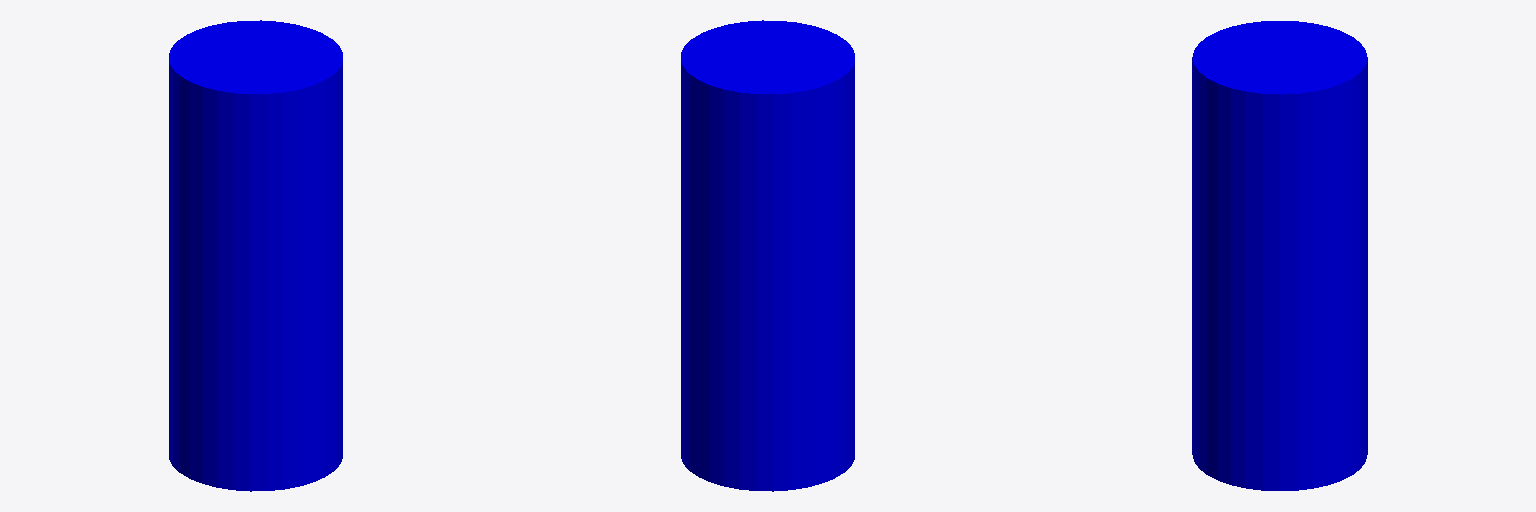
robot.urdf — my_auv:
<?xml version="1.0" ?>
<!-- =================================================================================== -->
<!-- |    This document was autogenerated by xacro from my_auv.urdf.xacro              | -->
<!-- |    EDITING THIS FILE BY HAND IS NOT RECOMMENDED                                 | -->
<!-- =================================================================================== -->
<robot name="my_auv">
  <!-- Base Link -->
  <link name="base_link">
    <inertial>
      <mass value="50"/>
      <origin xyz="0 0 0"/>
      <inertia ixx="3" iyy="3" izz="3"/>
    </inertial>
    <visual>
      <geometry>
        <cylinder length="1.0" radius="0.2"/>
      </geometry>
      <material name="Blue">
        <color rgba="0 0 1 1"/>
      </material>
    </visual>
    <collision>
      <geometry>
        <cylinder length="1.0" radius="0.2"/>
      </geometry>
    </collision>
  </link>
  <!-- IMU -->
  <link name="imu_link"/>
  <joint name="imu_joint" type="fixed">
    <parent link="base_link"/>
    <child link="imu_link"/>
    <origin xyz="0 0 0"/>
  </joint>
  <gazebo>
    <sensor name="imu_sensor" type="imu">
      <always_on>true</always_on>
      <update_rate>50</update_rate>
      <plugin filename="libgazebo_ros_imu_sensor.so" name="imu_plugin">
        <topicName>/my_auv/imu</topicName>
        <frameName>imu_link</frameName>
      </plugin>
    </sensor>
  </gazebo>
  <!-- Camera -->
  <link name="camera_link"/>
  <joint name="camera_joint" type="fixed">
    <parent link="base_link"/>
    <child link="camera_link"/>
    <origin xyz="0.5 0 0"/>
  </joint>
  <gazebo reference="camera_link">
    <sensor name="front_camera" type="camera">
      <update_rate>30</update_rate>
      <camera>
        <horizontal_fov>1.0</horizontal_fov>
        <image>
          <width>640</width>
          <height>480</height>
          <format>R8G8B8</format>
        </image>
      </camera>
      <plugin filename="libgazebo_ros_camera.so" name="camera_plugin">
        <cameraName>front_camera</cameraName>
        <imageTopicName>/my_auv/camera/image_raw</imageTopicName>
        <cameraInfoTopicName>/my_auv/camera/camera_info</cameraInfoTopicName>
        <frameName>camera_link</frameName>
      </plugin>
    </sensor>
  </gazebo>
</robot>

--- Render facts (derived) ---
3 views of the same robot in one strip: view 1: azimuth 30°, elevation 25°; view 2: azimuth 150°, elevation 25°; view 3: azimuth 270°, elevation 25° (orthographic).
Robot: my_auv — 3 links, 2 joints (2 fixed); root link base_link; default pose: all joints at 0.
Links seen in each view (by area): view 1: base_link; view 2: base_link; view 3: base_link.
Boxes of the visible links, x1,y1,x2,y2 form: base_link: (169, 20, 342, 491); base_link: (681, 20, 854, 491); base_link: (1192, 21, 1367, 490).
Bounding box of the posed robot: 0.4 × 0.4 × 1 m (x, y, z).
Geometry: primitives only (box / cylinder / sphere), no mesh files.
